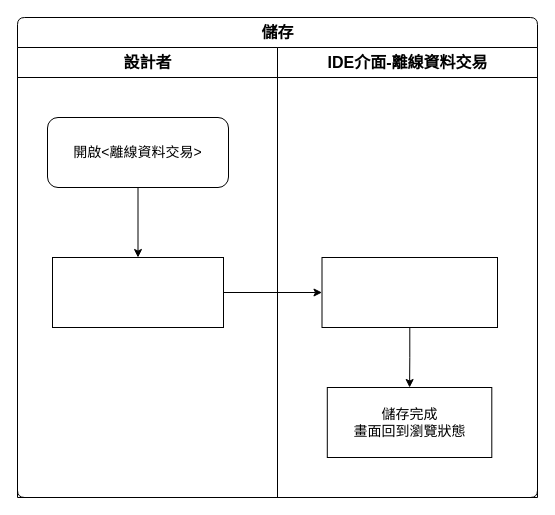
Image size: 555x515. Some labels were removed from this diagram. Here are the shapes that lost their labels. From the top down, the centre of each, then its label:
At [138,292]: "駐留目的欄位記錄 執行按鍵. 儲存".
At [409,292]: "儲存本次異動內容".
